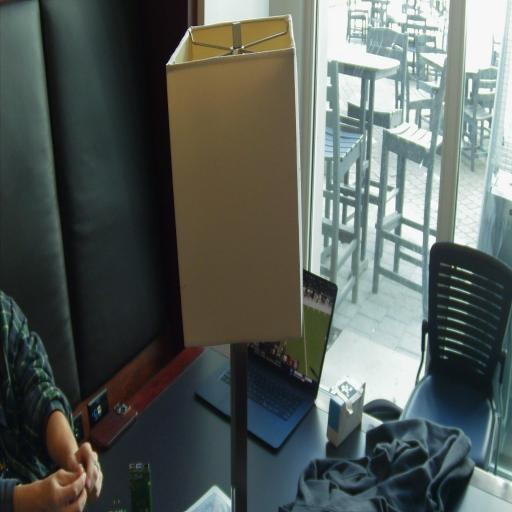lamp: (165, 13, 304, 512)
